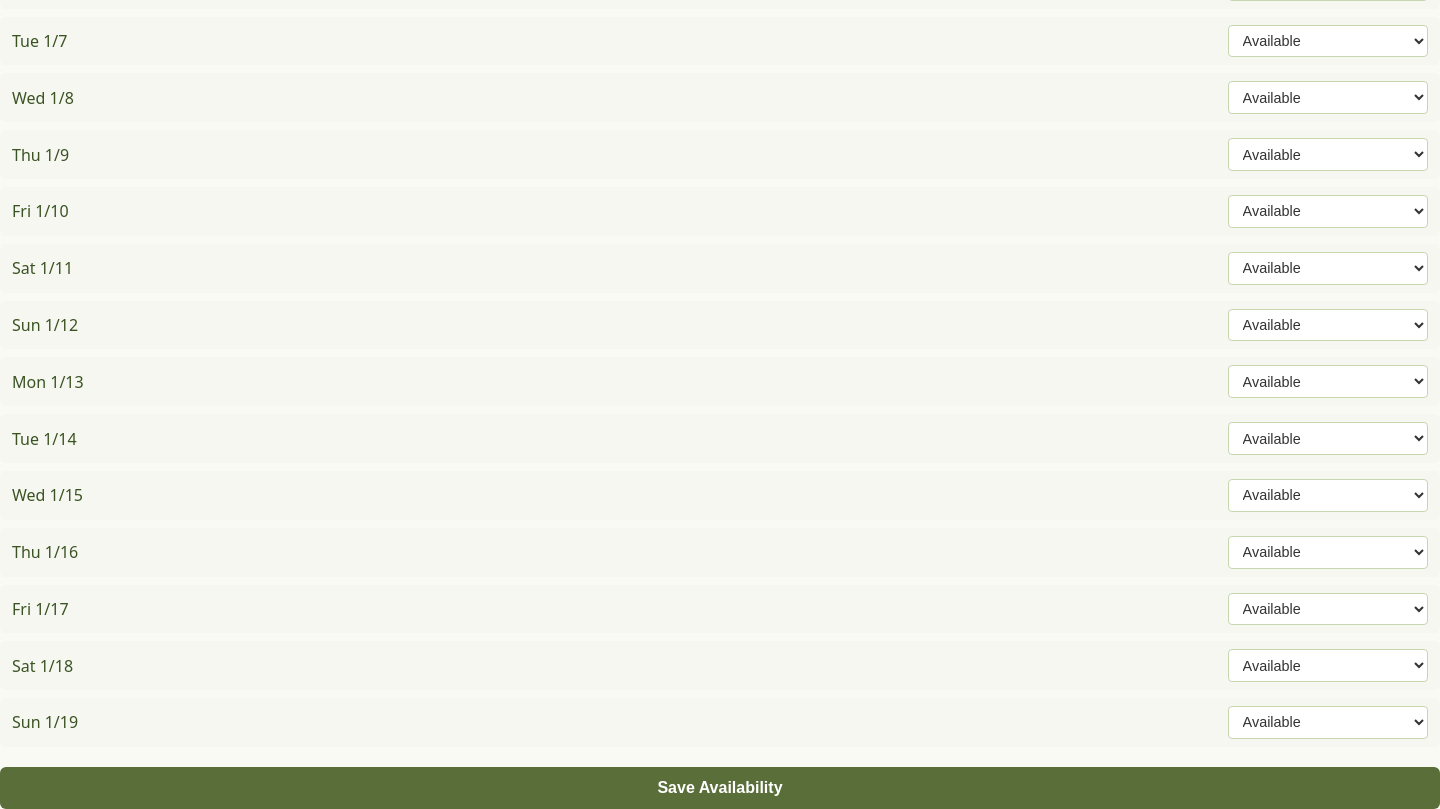
Scenario: AvailabilityGrid › shows error toast on save failure
(page scrolled)
Click the button "Save Availability" at (720, 788), box 0,767 -> 1439,808
(page scrolled)
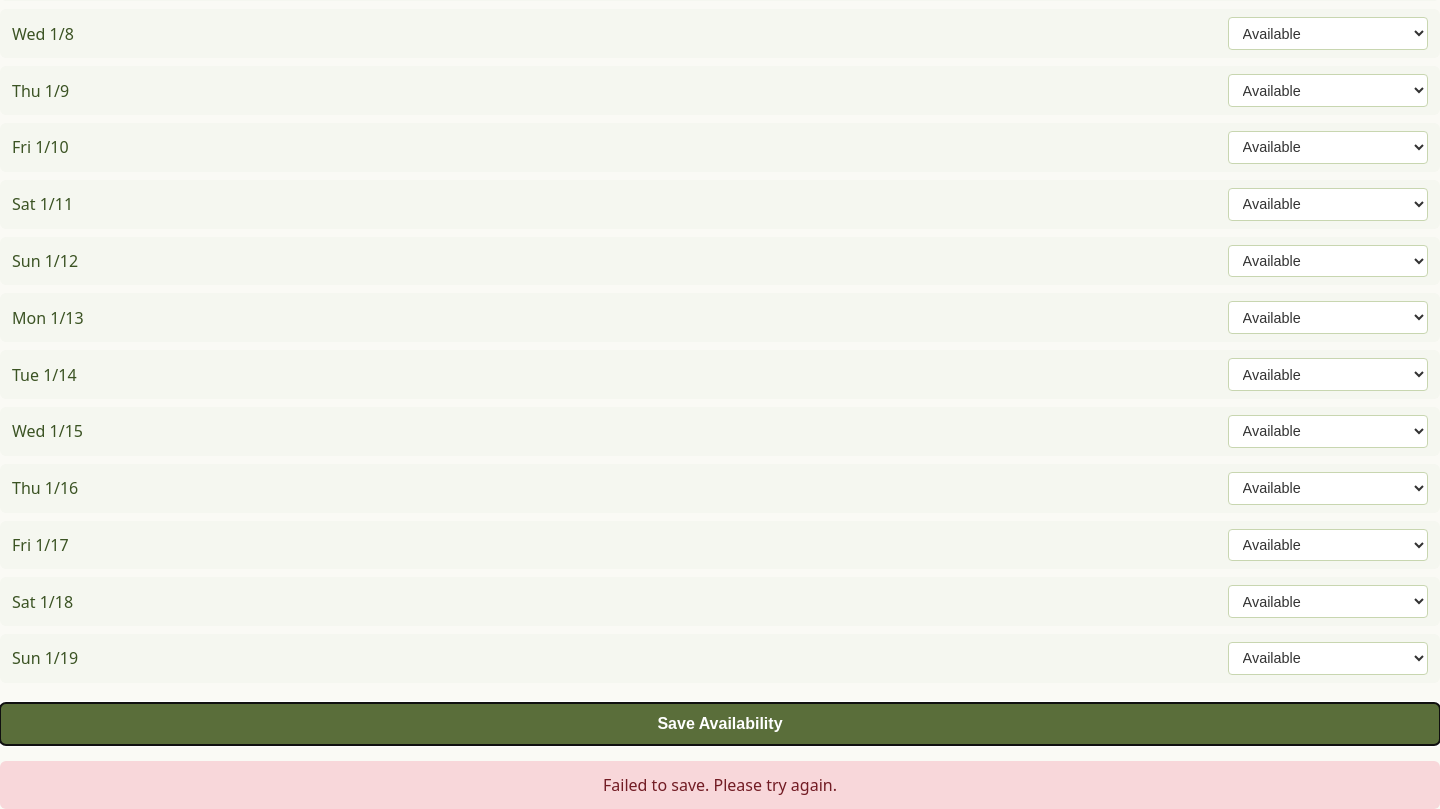
Now the text "Failed to save. Please try again." is shown, box 0,761 -> 1439,808
